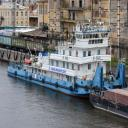tugboat: (7, 19, 128, 103)
